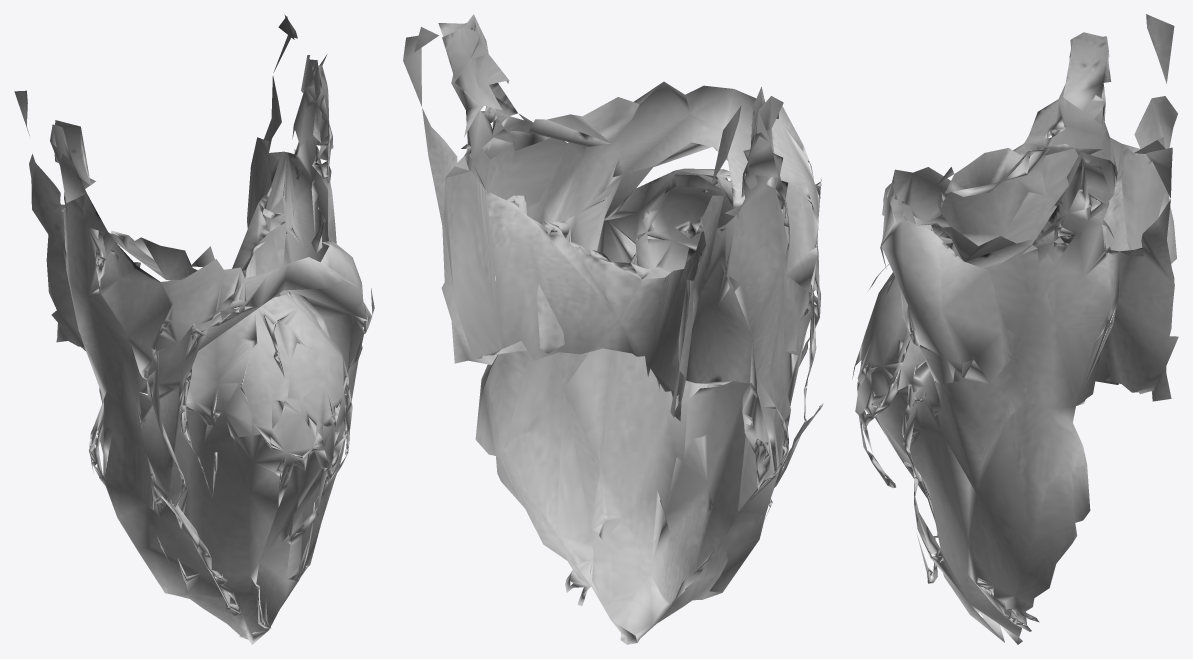
Rendered from beard_long.glb.
3 renders of one model, left to right at view 1: azimuth 30°, elevation 25°; view 2: azimuth 150°, elevation 25°; view 3: azimuth 270°, elevation 25°, orthographic. The views are drawn at different scales.
Parts seen in each view (by area): view 1: Hair; view 2: Hair; view 3: Hair.
Part boxes in pixels (x1=…): Hair: x1=14, y1=14, x2=374, y2=644; Hair: x1=403, y1=14, x2=823, y2=644; Hair: x1=852, y1=14, x2=1178, y2=644.
Size of the model in its own units: 0.7591 by 1.43 by 0.7571.
Materials: 1 (1 with a texture image).
